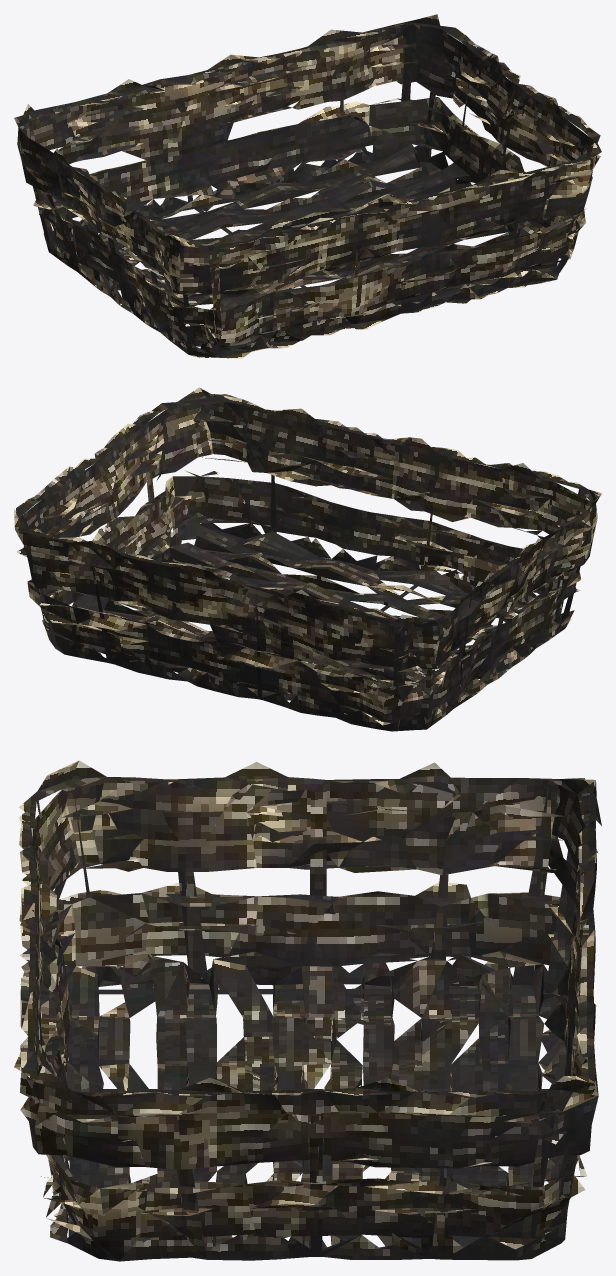
The model's file is b_basket.glb.
3 views of the same model, one above another, from view 1: azimuth 30°, elevation 25°; view 2: azimuth 150°, elevation 25°; view 3: azimuth 270°, elevation 25° (orthographic). The views are drawn at different scales.
Visible parts, largest first — view 1: body; view 2: body; view 3: body.
Boxes of the visible parts, box(x1,y1,x2,y2) form: body: box(14, 14, 601, 358); body: box(14, 387, 601, 731); body: box(14, 760, 601, 1261).
Bounding box in the file's own units: 0.3914 × 0.1174 × 0.302.
Materials: 1 (1 with a texture image).
